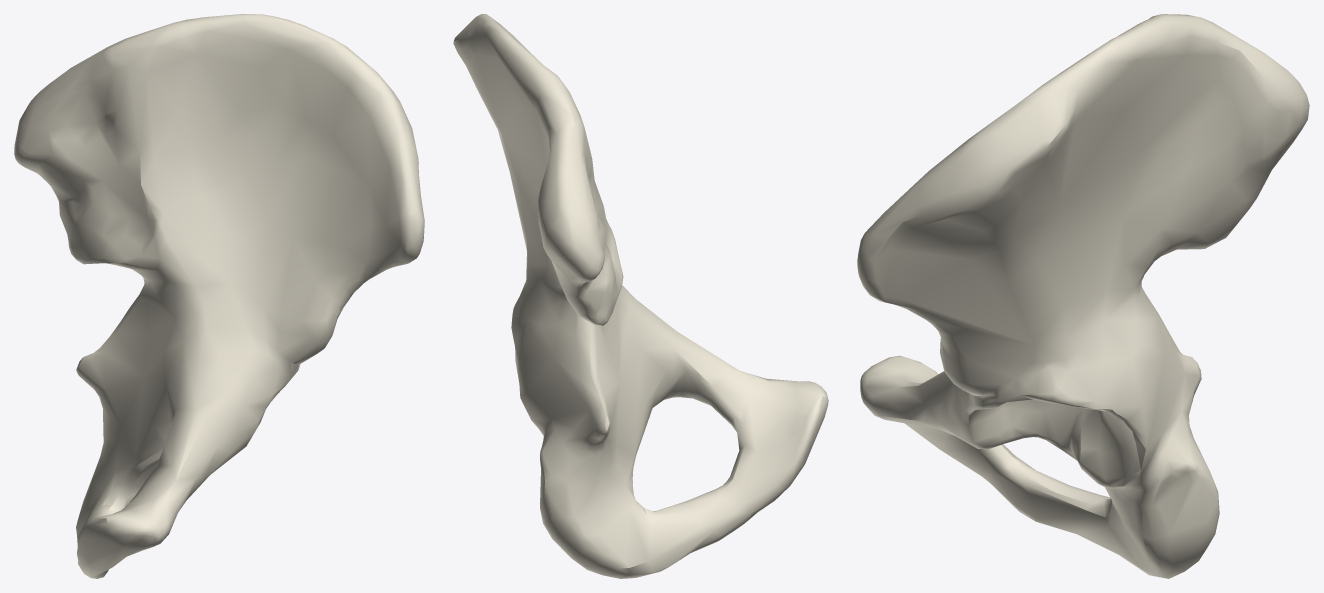
The model's file is fma16587_fj3288.glb.
The picture shows the model from 3 angles, left to right: view 1: azimuth 30°, elevation 25°; view 2: azimuth 150°, elevation 25°; view 3: azimuth 270°, elevation 25°; orthographic projection. The views are drawn at different scales.
Parts seen in each view (by area): view 1: FMA16587_FJ3288; view 2: FMA16587_FJ3288; view 3: FMA16587_FJ3288.
Part boxes in pixels (<box>): FMA16587_FJ3288: <box>14,14,424,578</box>; FMA16587_FJ3288: <box>453,14,828,578</box>; FMA16587_FJ3288: <box>857,14,1309,578</box>.
Bounding box in the file's own units: 0.142 × 0.2061 × 0.1378.
